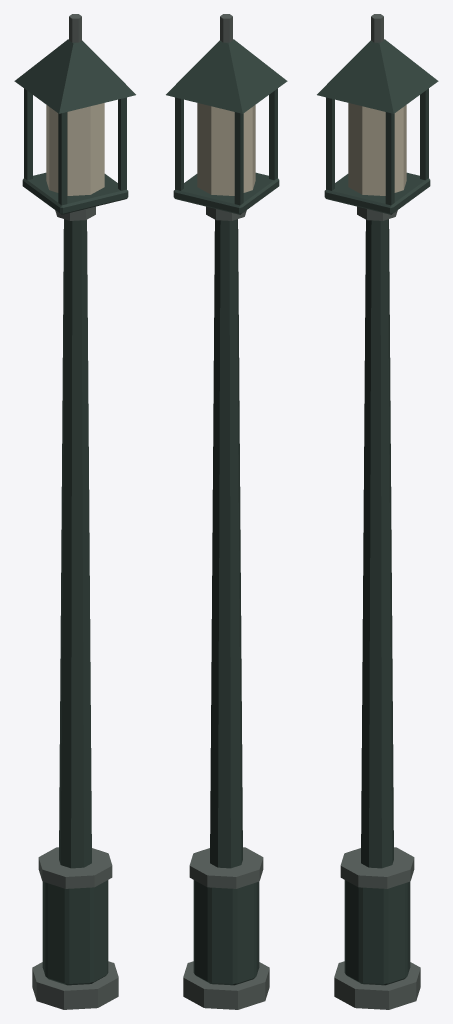
File: lamp_post.glb
3 renders of one model, left to right at view 1: azimuth 30°, elevation 25°; view 2: azimuth 150°, elevation 25°; view 3: azimuth 330°, elevation 25°, orthographic.
Visible parts, largest first — view 1: lamp_post, Lamp; view 2: lamp_post, Lamp; view 3: lamp_post, Lamp.
Boxes of the visible parts, x1=… form: lamp_post: x1=14, y1=14, x2=135, y2=1009; Lamp: x1=46, y1=103, x2=104, y2=195; lamp_post: x1=166, y1=14, x2=287, y2=1009; Lamp: x1=197, y1=103, x2=255, y2=195; lamp_post: x1=317, y1=14, x2=438, y2=1009; Lamp: x1=348, y1=103, x2=406, y2=195.
Size of the model in its own units: 0.34 by 4.08 by 0.34.
